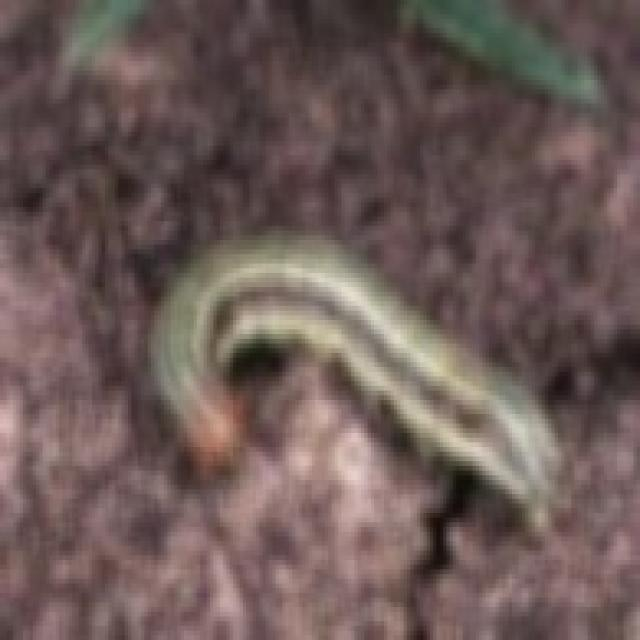army worm: (134, 215, 564, 521)
